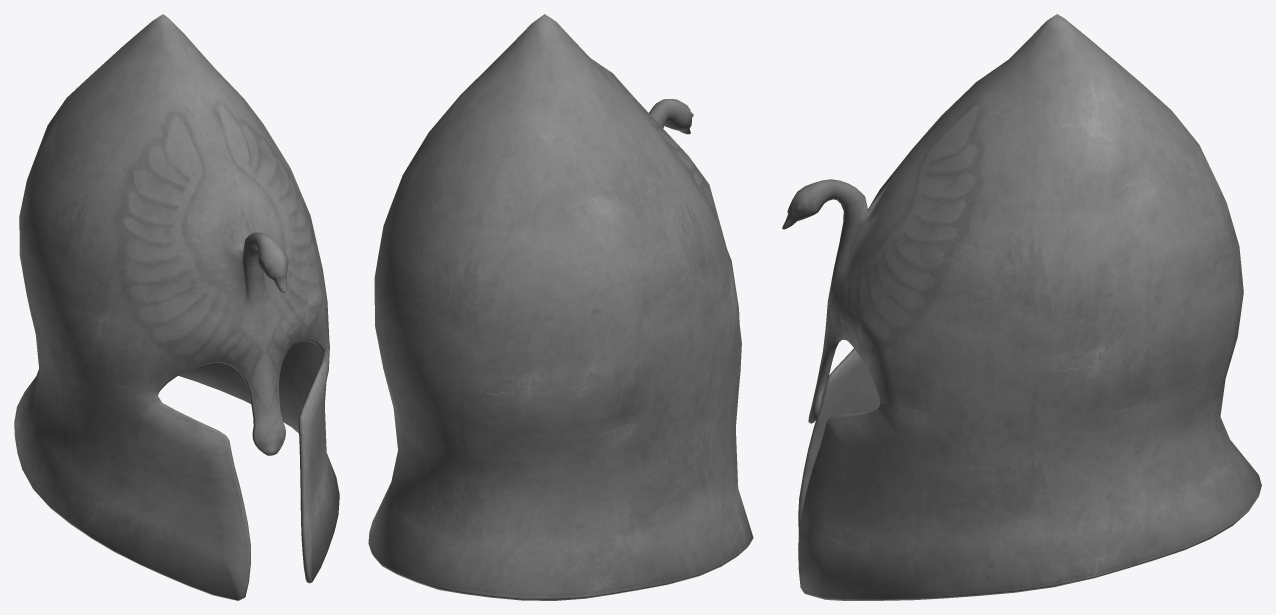
File: dol_amroth_helmet_basic.fbx
The picture shows the model from 3 angles, left to right: view 1: azimuth 30°, elevation 25°; view 2: azimuth 150°, elevation 25°; view 3: azimuth 270°, elevation 25°; orthographic projection. The views are drawn at different scales.
Visible parts, largest first — view 1: dol_amroth_helmet_basic; view 2: dol_amroth_helmet_basic; view 3: dol_amroth_helmet_basic.
Boxes of the visible parts, box(x1,y1,x2,y2) form: dol_amroth_helmet_basic: box(14, 14, 339, 600); dol_amroth_helmet_basic: box(368, 14, 753, 600); dol_amroth_helmet_basic: box(782, 14, 1261, 600).
Size of the model in its own units: 0.2087 by 0.2887 by 0.3724.
1 material, 1 textured.
